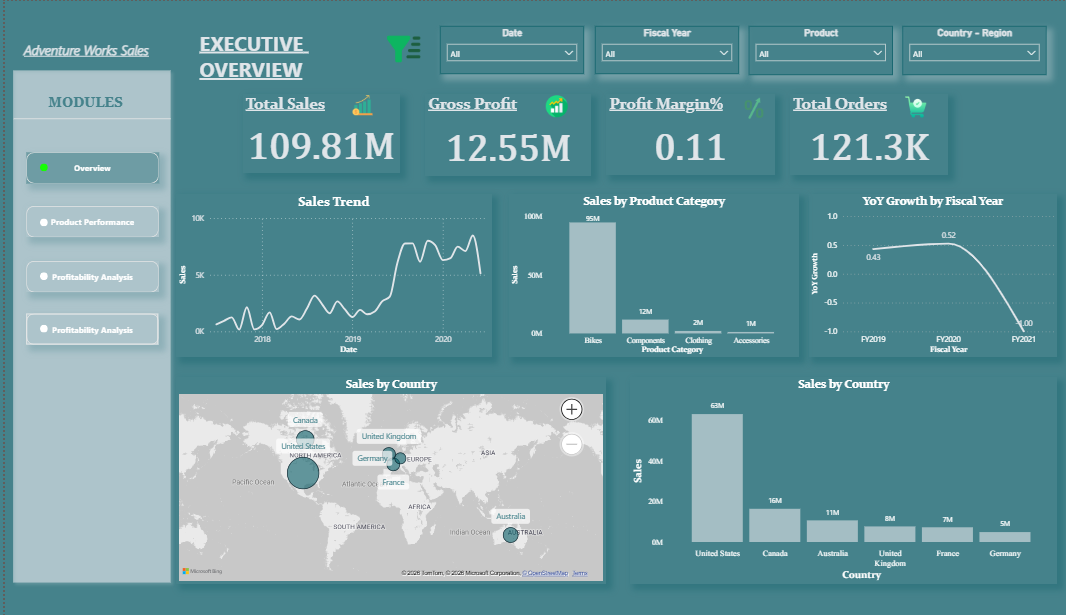

The page's visual inventory and layout, read from the dashboard file:
{"tool":"powerbi","page":{"name":"Overview","canvas":[1700,1000],"ordinal":0},"visuals":[{"type":"textbox","box":[13.5,57.6,232.3,45.6],"z":0},{"type":"shape","box":[3.8,102.5,270,837.5],"z":1000},{"type":"textbox","box":[56.2,146.2,146.2,41.2],"z":2000},{"type":"textbox","box":[306.7,39.5,220,100],"z":3000},{"type":"slicer","title":"Date","fields":{"Values":["Dim_Date.Date"]},"box":[695,39.5,230,76.7],"z":4000},{"type":"slicer","title":"Product","fields":{"Values":["Dim_Product.Product"]},"box":[1190,39.5,230,78.3],"z":5000},{"type":"slicer","title":"Country - Region","fields":{"Values":["Dim_Customer.Country-Region"]},"box":[1435,39.5,230,78.3],"z":6000},{"type":"card","title":"Total Sales","fields":{"Values":["Measures_.TotalSales"]},"box":[380,148.2,251.7,128.3],"z":7000},{"type":"card","title":"Gross Profit","fields":{"Values":["Measures_.Gross Profit"]},"box":[671.7,148.2,266.7,131.7],"z":8000},{"type":"card","title":"Profit Margin%","fields":{"Values":["Measures_.Profit Margin %"]},"box":[962,147.8,270,130],"z":9000},{"type":"card","title":"          Total Orders ","fields":{"Values":["Measures_.Total Orders"]},"box":[1255.3,147.8,253.3,130],"z":10000},{"type":"lineChart","title":"Sales Trend","fields":{"Y":["CountNonNull(Dim_SalesOrder.Sales Order)"],"Category":["Dim_Date.Month"]},"box":[273.8,308.8,505,262.5],"z":11000},{"type":"image","box":[1430,148.2,55,43.3],"z":12000},{"type":"image","box":[1176.7,149.8,45,43.3],"z":13000},{"type":"image","box":[858.3,146.5,50,45],"z":14000},{"type":"image","box":[543.3,146.5,56.7,41.7],"z":15000},{"type":"columnChart","title":"Sales by Product Category ","fields":{"Y":["Sum(Fact_Sales.Sales Amount)"],"Category":["Dim_Product.Category"]},"box":[805,308.8,465,262.5],"z":16000},{"type":"map","title":"Sales by Country ","fields":{"Category":["Dim_SalesTerritory.Country"],"Size":["Sum(Fact_Sales.Sales Amount)"]},"box":[274,602,688,330],"z":17000},{"type":"image","box":[591.7,42.8,90,70],"z":18000},{"type":"lineChart","fields":{"Y":["Measures_.YoY Growth"],"Category":["Dim_Date.Fiscal Year"]},"box":[1286.2,308.8,397.5,262.5],"z":19000},{"type":"slicer","title":"Fiscal Year","fields":{"Values":["Dim_Date.Fiscal Year"]},"box":[943.3,39.5,230,76.7],"z":20000},{"type":"columnChart","title":"Sales by Country","fields":{"Y":["Sum(Fact_Sales.Sales Amount)"],"Category":["Dim_SalesTerritory.Country"]},"box":[1000,602,684,330],"z":21000},{"type":"pageNavigator","box":[33.8,241.2,212.5,50],"z":22000},{"type":"shape","box":[13.8,181.2,251.2,12.5],"z":23000},{"type":"shape","box":[55,260,12.5,12.5],"z":24000},{"type":"shape","box":[55,347.5,12.5,12.5],"z":25000},{"type":"pageNavigator","box":[33.8,328.8,212.5,50],"z":26000},{"type":"pageNavigator","box":[33.8,415,212.5,50],"z":27000},{"type":"shape","box":[55,433.8,12.5,12.5],"z":28000},{"type":"pageNavigator","box":[33.8,500,212.5,50],"z":29000},{"type":"shape","box":[55,518.8,12.5,12.5],"z":30000}]}

Visuals, with their boxes in screenshot pixels (x1, y1, x2, y2), scaled from the page's 1700x1000 canvas onto the 1066x615 screenshot:
textbox: crop(8, 35, 154, 63)
shape: crop(2, 63, 172, 578)
textbox: crop(35, 90, 127, 115)
textbox: crop(192, 24, 330, 86)
"Date" slicer: crop(436, 24, 580, 71)
"Product" slicer: crop(746, 24, 890, 72)
"Country - Region" slicer: crop(900, 24, 1044, 72)
"Total Sales" card: crop(238, 91, 396, 170)
"Gross Profit" card: crop(421, 91, 588, 172)
"Profit Margin%" card: crop(603, 91, 773, 171)
"          Total Orders " card: crop(787, 91, 946, 171)
"Sales Trend" lineChart: crop(172, 190, 488, 351)
image: crop(897, 91, 931, 118)
image: crop(738, 92, 766, 119)
image: crop(538, 90, 570, 118)
image: crop(341, 90, 376, 116)
"Sales by Product Category " columnChart: crop(505, 190, 796, 351)
"Sales by Country " map: crop(172, 370, 603, 573)
image: crop(371, 26, 427, 69)
lineChart - Measures_.YoY Growth x Dim_Date.Fiscal Year: crop(807, 190, 1056, 351)
"Fiscal Year" slicer: crop(592, 24, 736, 71)
"Sales by Country" columnChart: crop(627, 370, 1056, 573)
pageNavigator: crop(21, 148, 154, 179)
shape: crop(9, 111, 166, 119)
shape: crop(34, 160, 42, 168)
shape: crop(34, 214, 42, 221)
pageNavigator: crop(21, 202, 154, 233)
pageNavigator: crop(21, 255, 154, 286)
shape: crop(34, 267, 42, 274)
pageNavigator: crop(21, 308, 154, 338)
shape: crop(34, 319, 42, 327)
